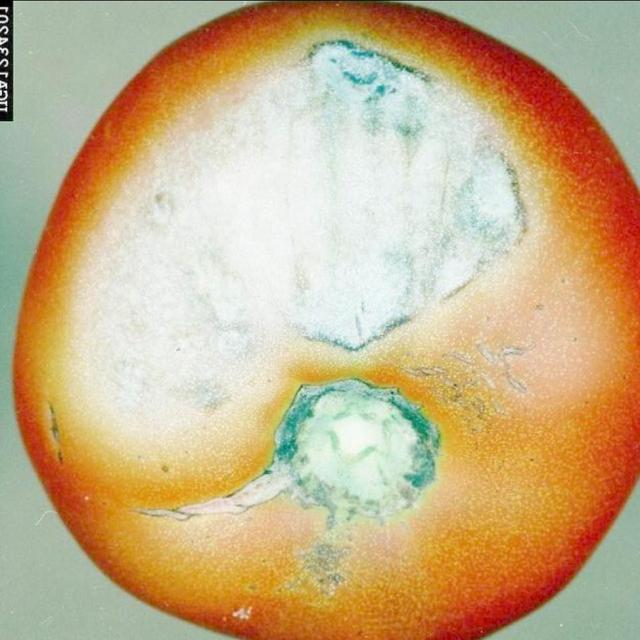Sunscald Fruit: (40, 22, 356, 291)
